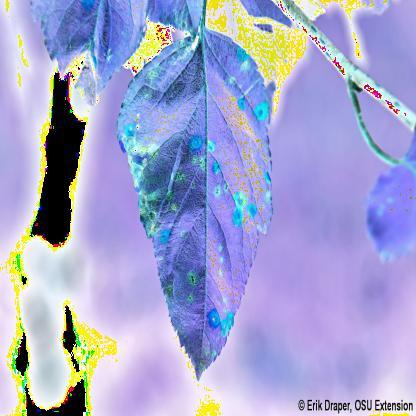Apple rust leaf: (117, 24, 284, 393)
